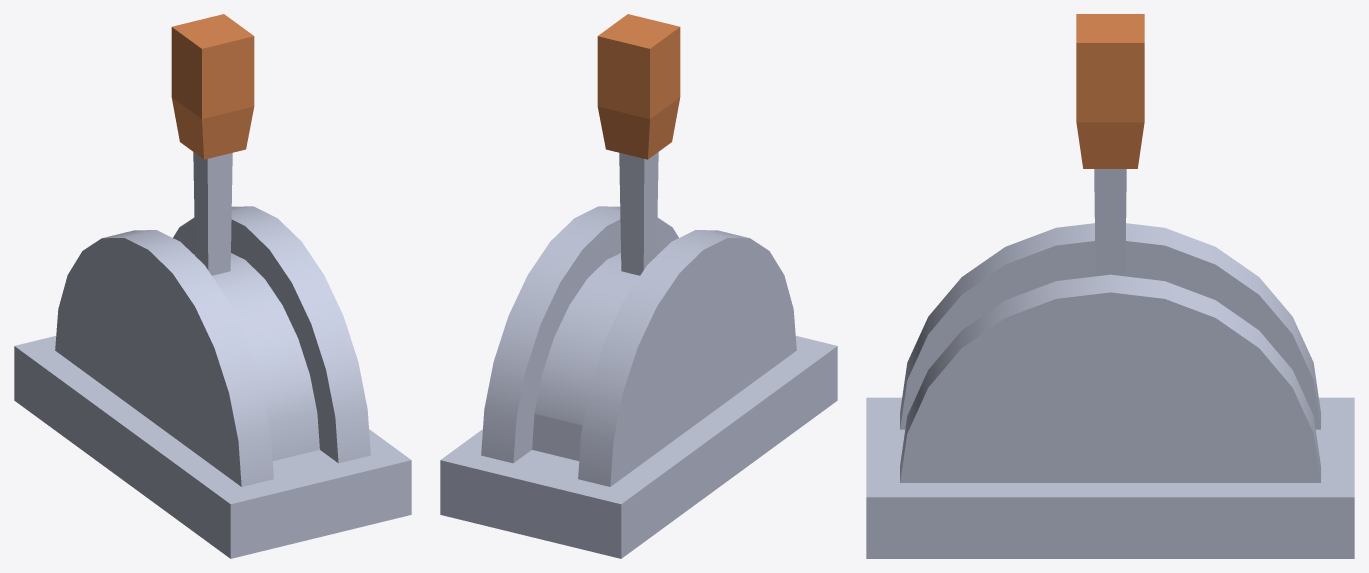
The model's file is lever.dae.
3 renders of one model, left to right at view 1: azimuth 30°, elevation 25°; view 2: azimuth 150°, elevation 25°; view 3: azimuth 270°, elevation 25°, orthographic. The views are drawn at different scales.
Visible parts, largest first — view 1: lever, handle; view 2: lever, handle; view 3: lever, handle.
Boxes of the visible parts, x1,y1,x2,y2 form: lever: (14, 206, 411, 558); handle: (171, 14, 254, 275); lever: (440, 206, 837, 558); handle: (597, 14, 680, 275); lever: (866, 223, 1354, 558); handle: (1076, 14, 1144, 276).
Bounding box in the file's own units: 0.28 × 0.6303 × 0.58.
